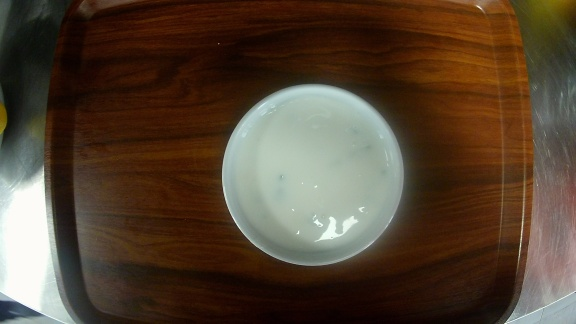cacik: (220, 84, 405, 266)
